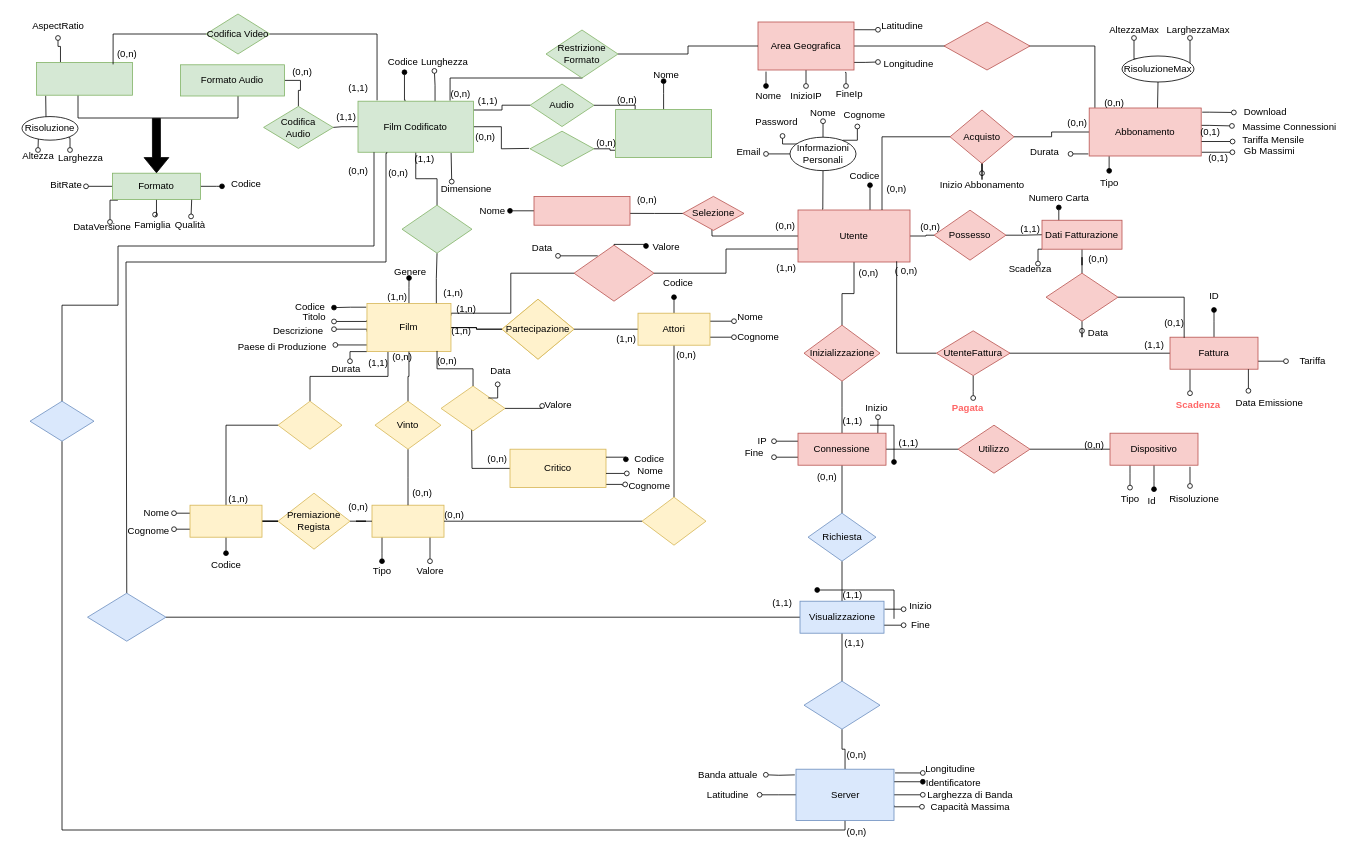
Some shapes in this 1358 by 858 pixel diagram are drawn without their labels. Here are the shapes that lost their labels. From the top down, the box of each, then its label:
(943, 21, 1030, 70): Restrizione Abbonamento
(36, 62, 132, 95): Formato Video
(529, 130, 594, 166): Sottotitolo
(615, 109, 712, 158): Lingua
(401, 204, 472, 253): Codifica
(533, 196, 630, 225): Preferenza
(573, 244, 654, 301): Recensione Utente
(1045, 272, 1118, 321): Pagamento
(29, 400, 94, 441): Possesso Server
(277, 400, 342, 449): Direzione
(440, 385, 505, 431): Recensione
(189, 504, 262, 537): Regista
(371, 504, 444, 537): Premio
(641, 496, 706, 545): Premiazione Attore
(87, 592, 166, 641): Accesso
(803, 680, 880, 729): Utilizzo di
